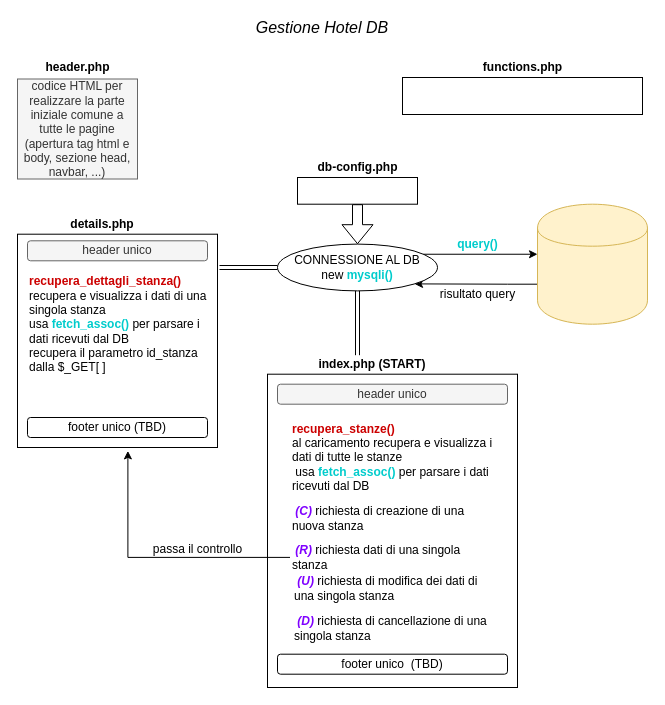
This 665x705 diagram has some shape labels left out. Here are the shapes that lost their labels. From the top down, the centre of each, then its label:
At (x=522, y=95): "funzioni PHP richiamate dalle pagine".
At (x=357, y=190): "dati sensibili per l'accesso al DB".
At (x=592, y=263): "db_hotel".
